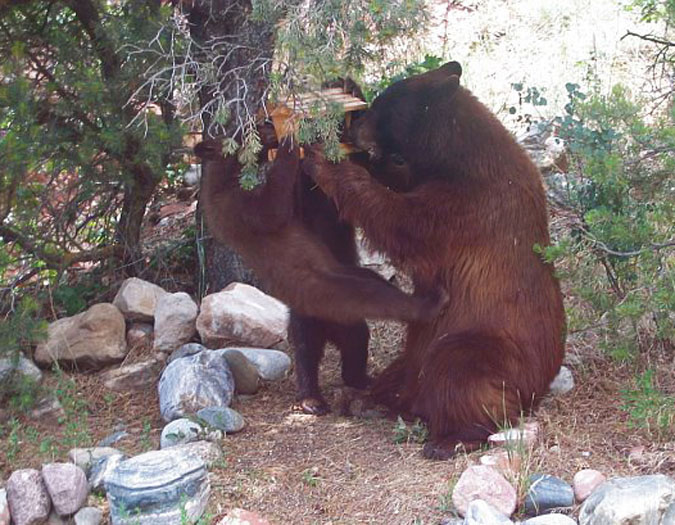bear: (343, 56, 467, 164)
